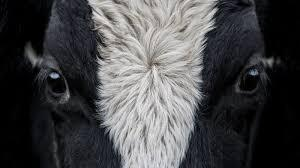cow: (23, 0, 269, 168)
